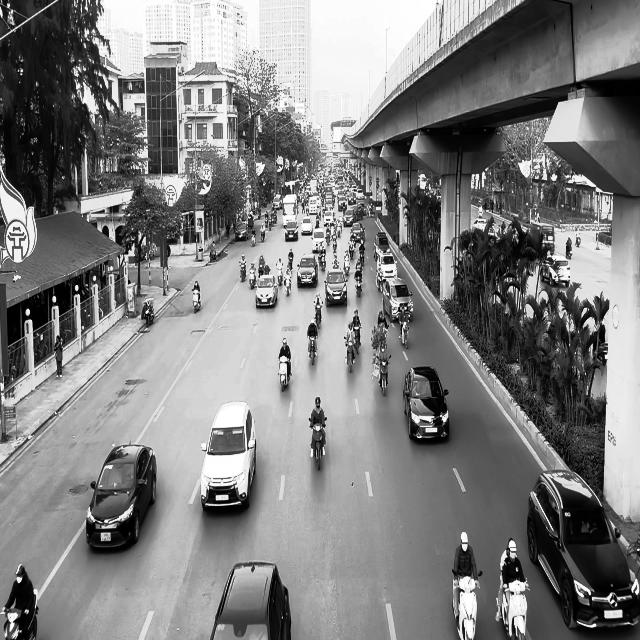bus: (530, 223, 555, 258)
car: (526, 468, 640, 630), (86, 442, 156, 550), (209, 562, 292, 640), (200, 400, 256, 510), (403, 365, 449, 442), (382, 277, 414, 322), (540, 254, 571, 288), (324, 268, 347, 306), (255, 274, 278, 308), (297, 253, 318, 287)
motorbike: (452, 570, 482, 639), (2, 588, 39, 640), (502, 579, 530, 639), (308, 416, 327, 471), (374, 354, 391, 396), (278, 356, 291, 392), (344, 336, 356, 373), (398, 317, 409, 349), (142, 298, 154, 326), (307, 334, 317, 364), (192, 287, 200, 313), (239, 262, 246, 282)
